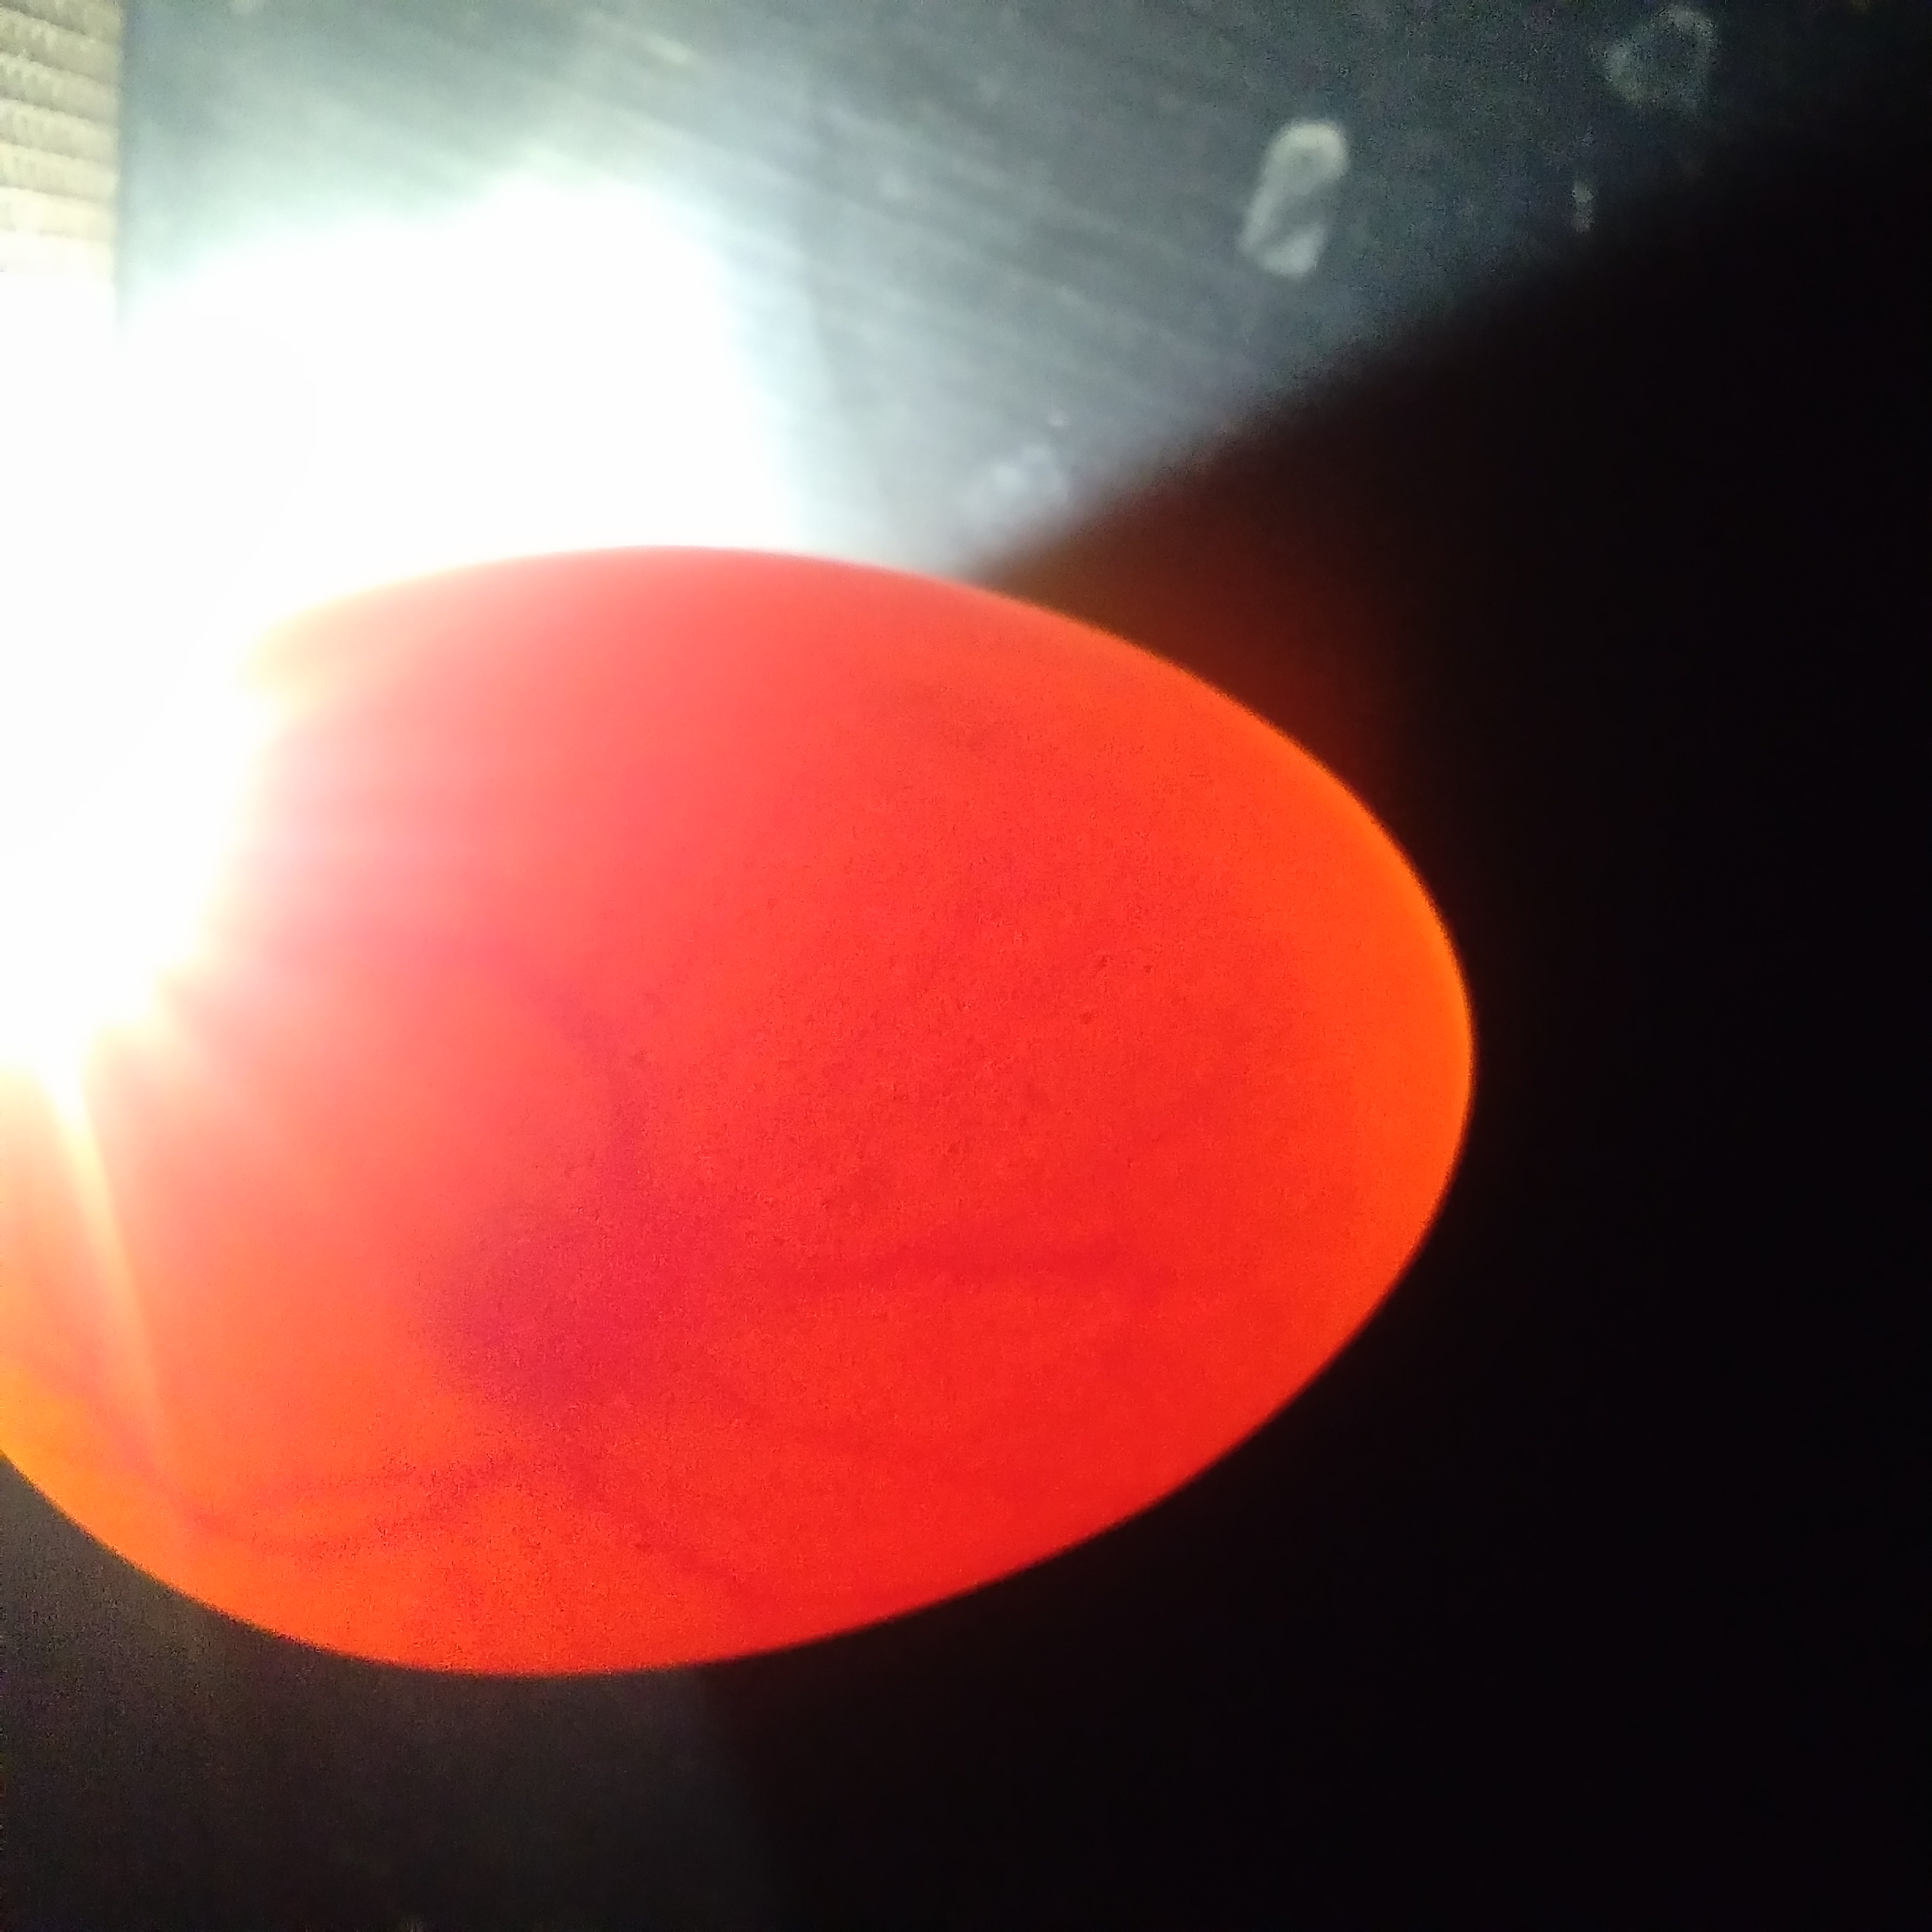bloodcell: (485, 927, 971, 1159), (823, 1235, 1083, 1497)
embryo: (426, 1208, 759, 1433)
